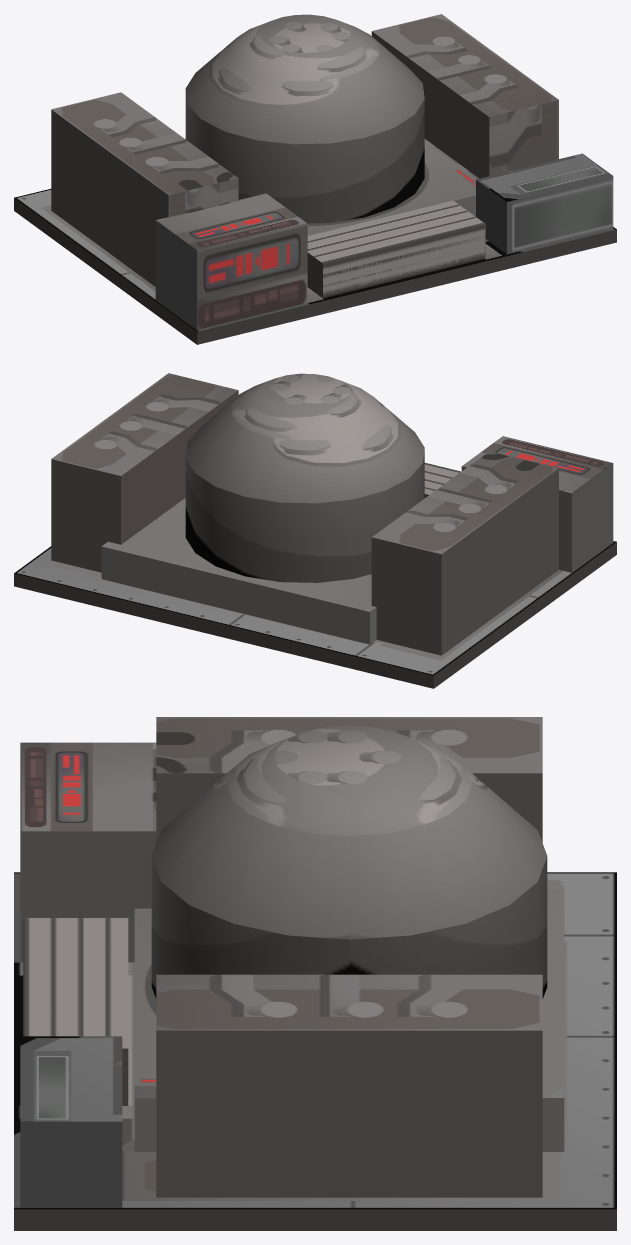
File: Building_LargeMechGestator.obj
3 views of the same model, one above another, from view 1: azimuth 30°, elevation 25°; view 2: azimuth 150°, elevation 25°; view 3: azimuth 270°, elevation 25° (orthographic). The views are drawn at different scales.
Parts seen in each view (by area): view 1: Body; view 2: Body; view 3: Body.
Boxes of the visible parts, x1,y1,x2,y2 form: Body: (14, 14, 616, 344); Body: (14, 373, 616, 688); Body: (14, 717, 616, 1230).
Size of the model in its own units: 4.03 by 1.7 by 3.05.
1 material, 1 textured.
